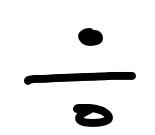div: (24, 28, 136, 127)
